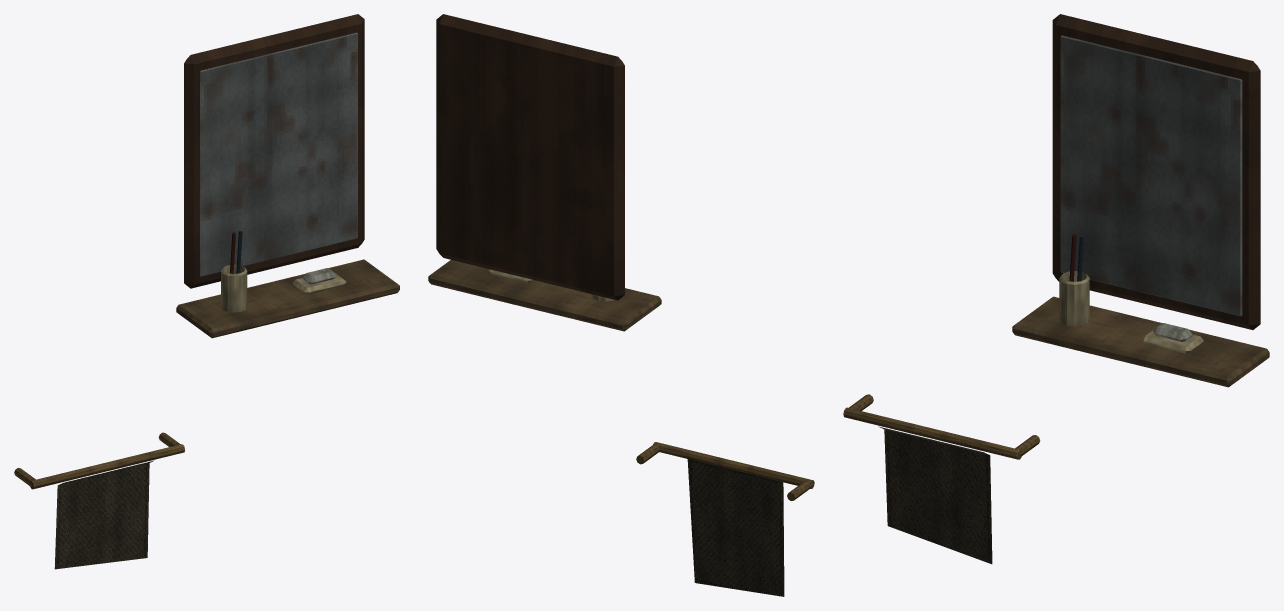
The model's file is level_bathroom_wall_set_worn.glb.
3 views of the same model, side by side, from view 1: azimuth 30°, elevation 25°; view 2: azimuth 150°, elevation 25°; view 3: azimuth 330°, elevation 25° (orthographic). The views are drawn at different scales.
Parts seen in each view (by area): view 1: level_bathroom_wall_set_worn; view 2: level_bathroom_wall_set_worn; view 3: level_bathroom_wall_set_worn.
Part boxes in pixels (x1=…): level_bathroom_wall_set_worn: x1=14, y1=14, x2=399, y2=569; level_bathroom_wall_set_worn: x1=428, y1=14, x2=814, y2=596; level_bathroom_wall_set_worn: x1=843, y1=14, x2=1269, y2=564.
Size of the model in its own units: 1.07 by 1.47 by 0.19.
Materials: 9 (9 with a texture image).
